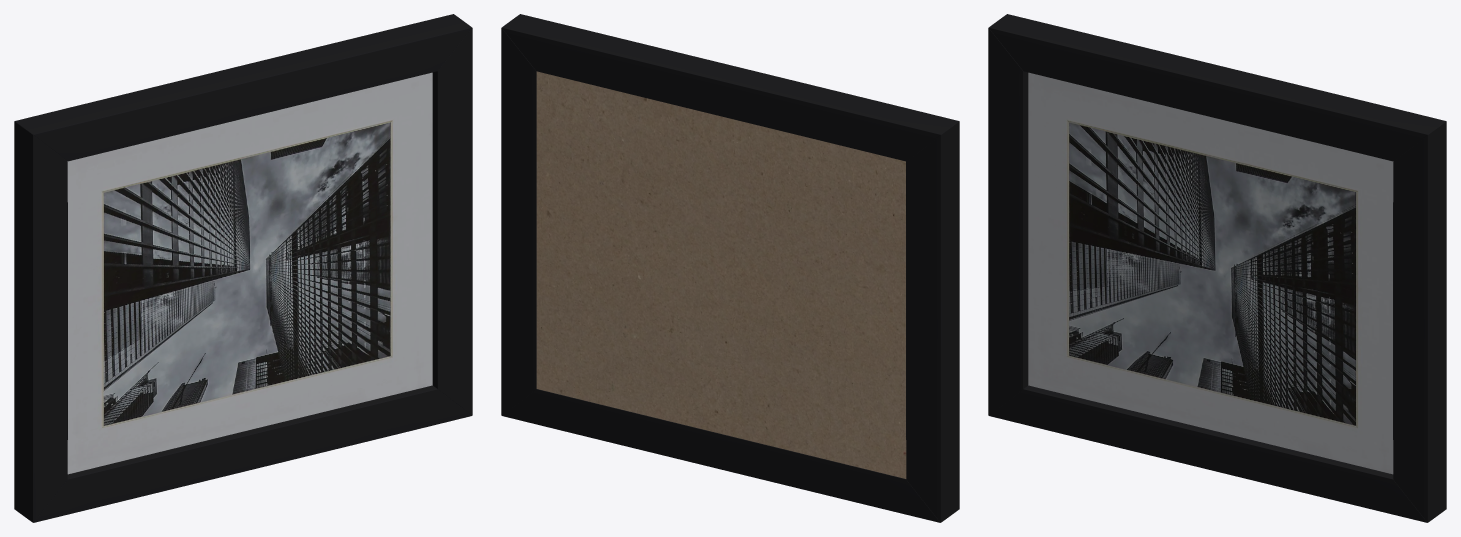
Rendered from B073NZFTH9.glb.
The picture shows the model from 3 angles, left to right: view 1: azimuth 30°, elevation 25°; view 2: azimuth 150°, elevation 25°; view 3: azimuth 330°, elevation 25°; orthographic projection.
Parts seen in each view (by area): view 1: RootNode; view 2: RootNode; view 3: RootNode.
Part boxes in pixels (box(x1,y1,x2,y2)): RootNode: box(14, 14, 472, 522); RootNode: box(501, 14, 959, 522); RootNode: box(988, 14, 1446, 522).
Bounding box in the file's own units: 0.3807 × 0.3215 × 0.0282.
1 material, 1 textured.
